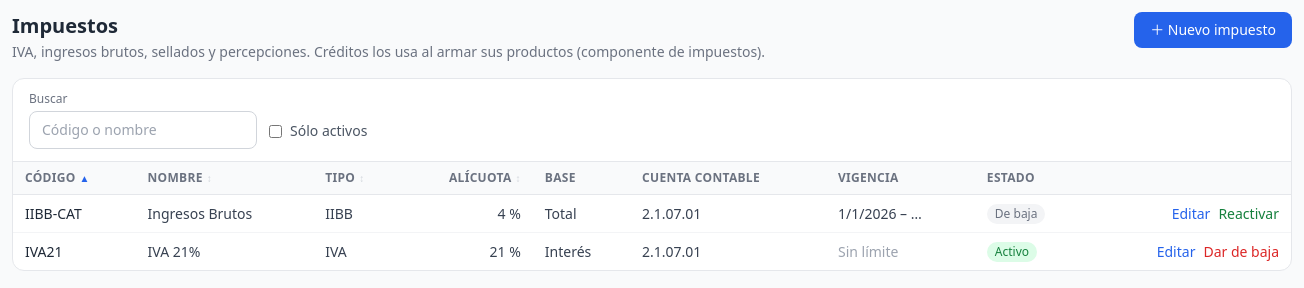
Scenario: Impuestos › filtra por texto y por activos
Expected: the text "IVA21" is shown, [25, 242, 63, 260]
Click the checkbox labelled "Sólo activos".
click(276, 131)  # box [269, 124, 282, 138]
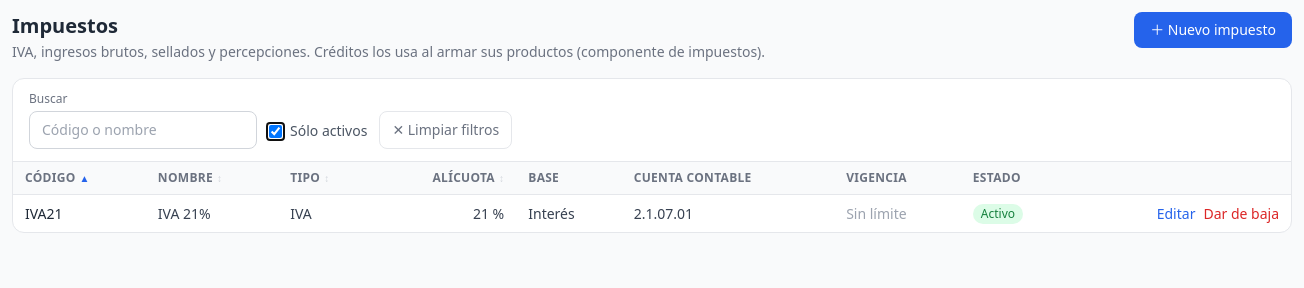
Expected: the text "IIBB-CAT" is gone
Click the button "✕ Limpiar filtros".
click(446, 130)  # box [379, 111, 512, 149]
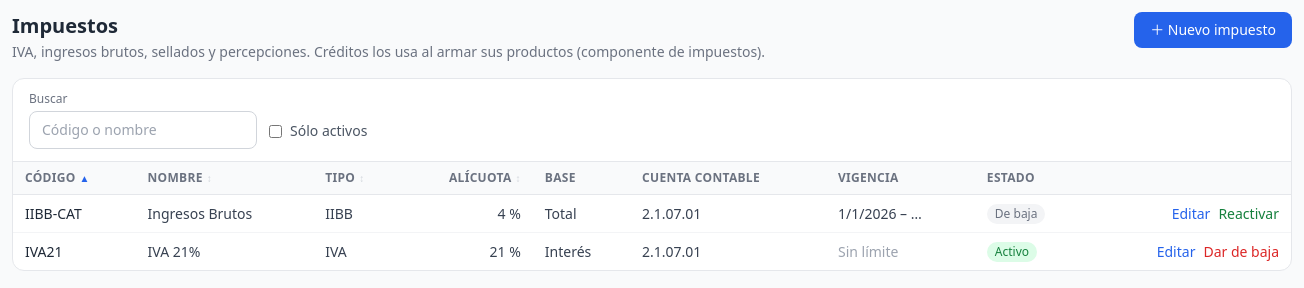
Type "brutos" into the field with placeholder "Código o nombre".
click(143, 130); type("brutos")  # box [29, 111, 257, 149]
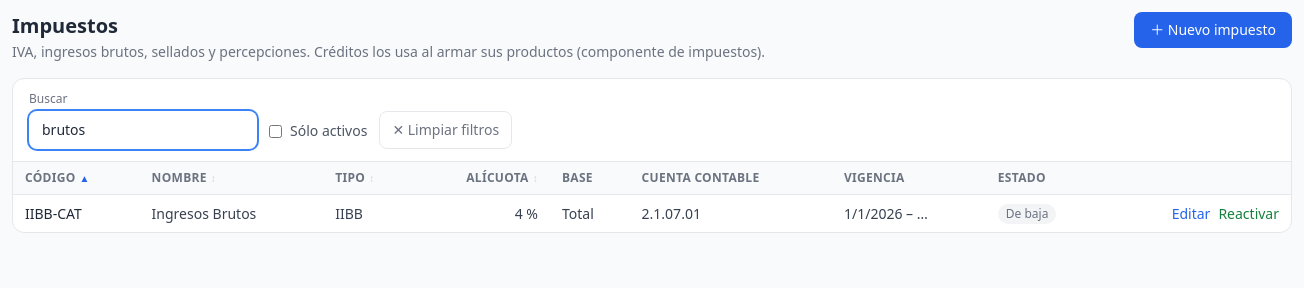
Expected: the text "IIBB-CAT" is shown, [25, 204, 82, 222]
Expected: the text "IVA21" is gone
